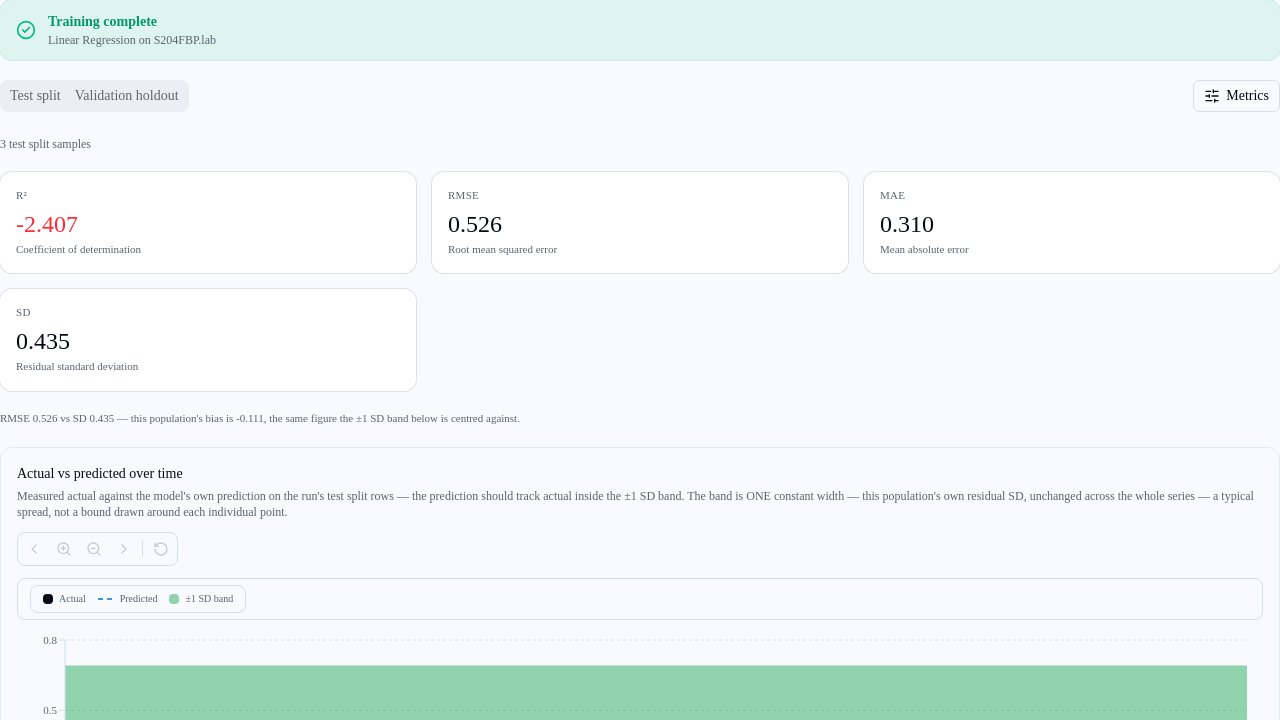
Test: Phase5Evaluation — tabs for every run (MODEL-FLOW-030) › the holdout tab › scored figures without a series: shows the tiles and states why there is no chart
Click the tab "Validation holdout".
click(127, 96)  # box [68,83,186,109]
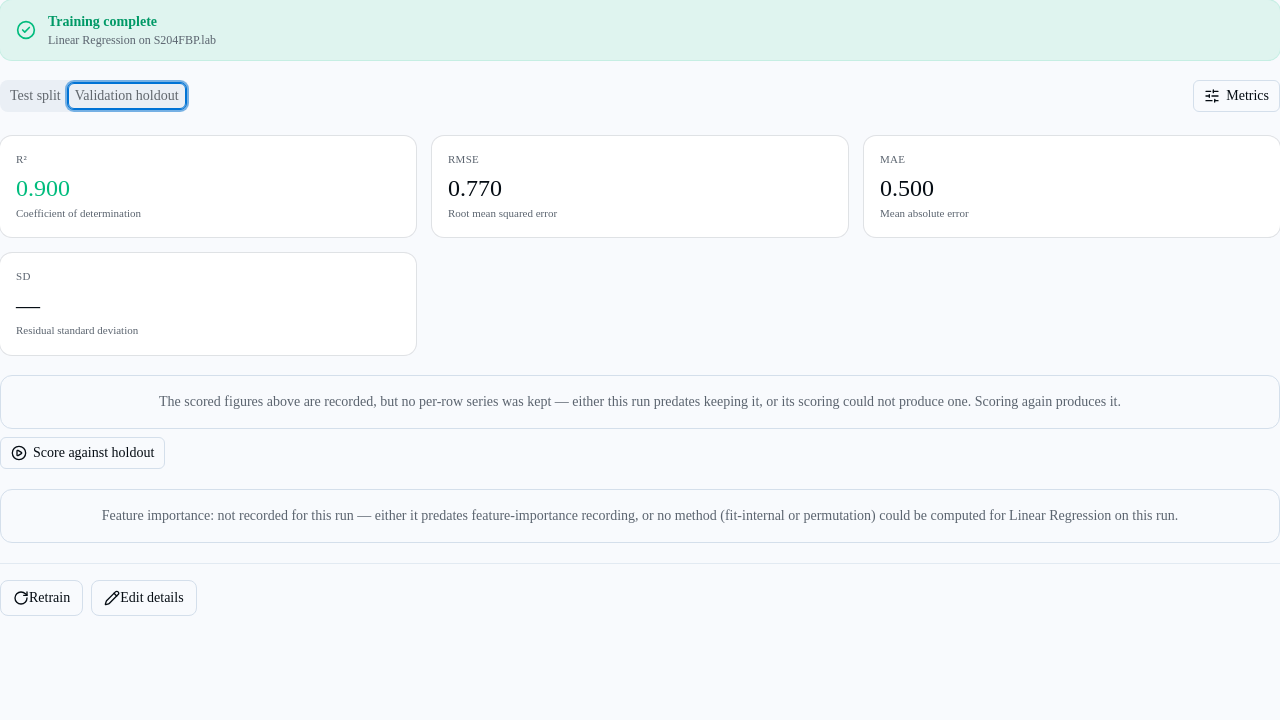
Expected: the text "0.770" is shown, [448,175,502,201]
Expected: the text "no per-row series was kept" is shown, [159,394,1121,409]
Expected: the heading "Actual vs predicted over time" is gone
